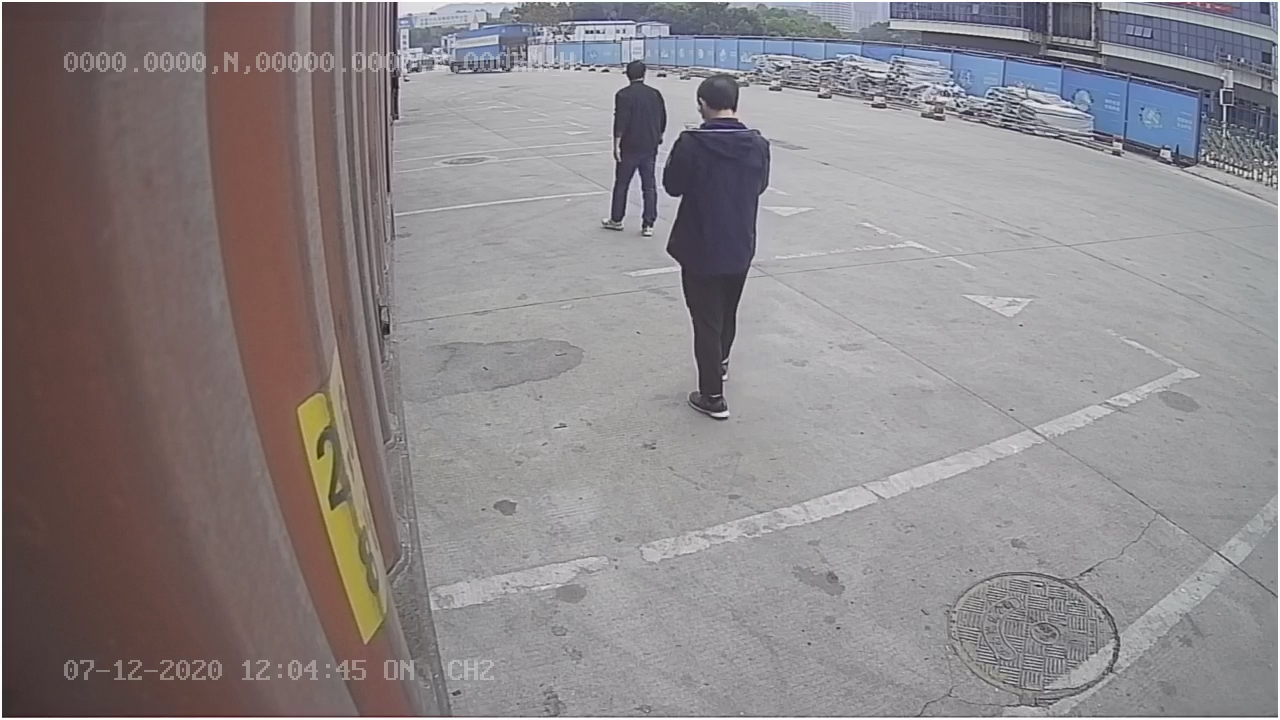person: (664, 72, 770, 417)
